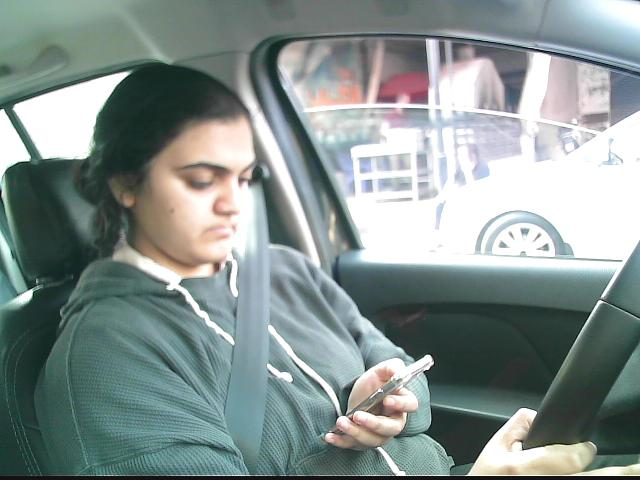PhoneUse: (320, 348, 437, 447)
